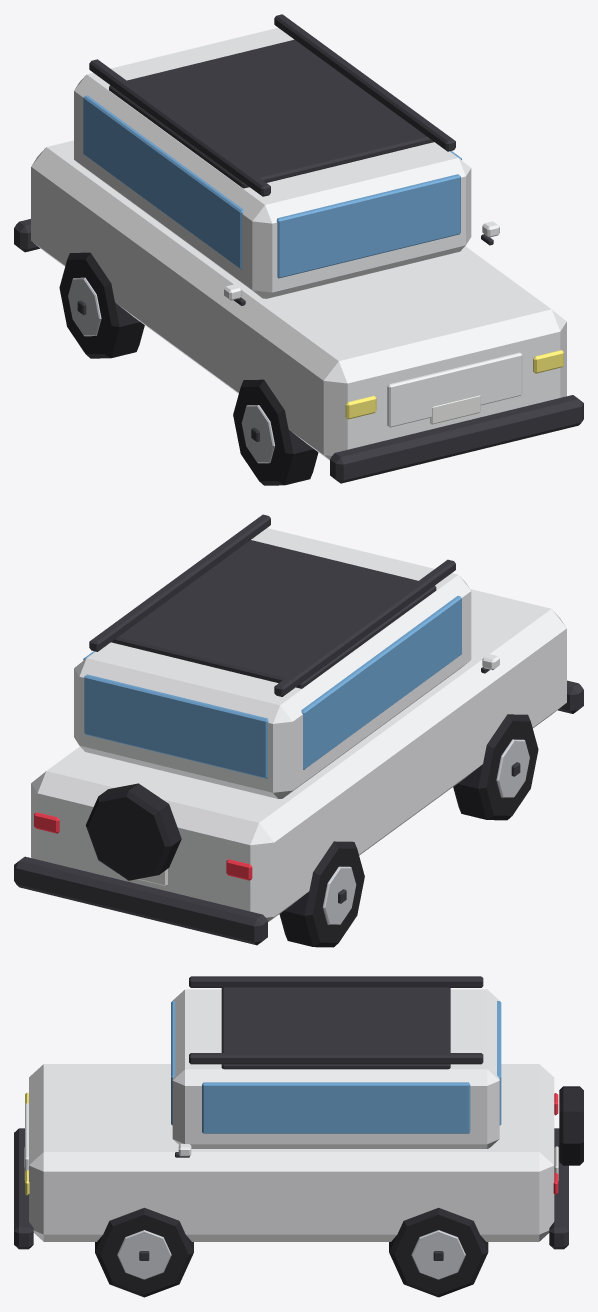
The model's file is WhiteSUV.fbx.
The picture shows the model from 3 angles, top to bottom: view 1: azimuth 30°, elevation 25°; view 2: azimuth 150°, elevation 25°; view 3: azimuth 270°, elevation 25°; orthographic projection. The views are drawn at different scales.
Parts seen in each view (by area): view 1: WhiteSUV, WhiteSUV_WheelBR, WhiteSUV_WheelFR; view 2: WhiteSUV, WhiteSUV_WheelBR, WhiteSUV_WheelFR; view 3: WhiteSUV, WhiteSUV_WheelBL, WhiteSUV_WheelFL.
Boxes of the visible parts, x1,y1,x2,y2 form: WhiteSUV: [14, 14, 583, 483]; WhiteSUV_WheelBR: [59, 252, 144, 358]; WhiteSUV_WheelFR: [233, 379, 318, 485]; WhiteSUV: [14, 514, 583, 945]; WhiteSUV_WheelBR: [279, 841, 364, 947]; WhiteSUV_WheelFR: [453, 714, 538, 820]; WhiteSUV: [14, 976, 583, 1249]; WhiteSUV_WheelBL: [389, 1207, 488, 1297]; WhiteSUV_WheelFL: [95, 1207, 193, 1297].
Bounding box in the file's own units: 5.35 × 5.15 × 11.5.
1 material, 1 textured.
